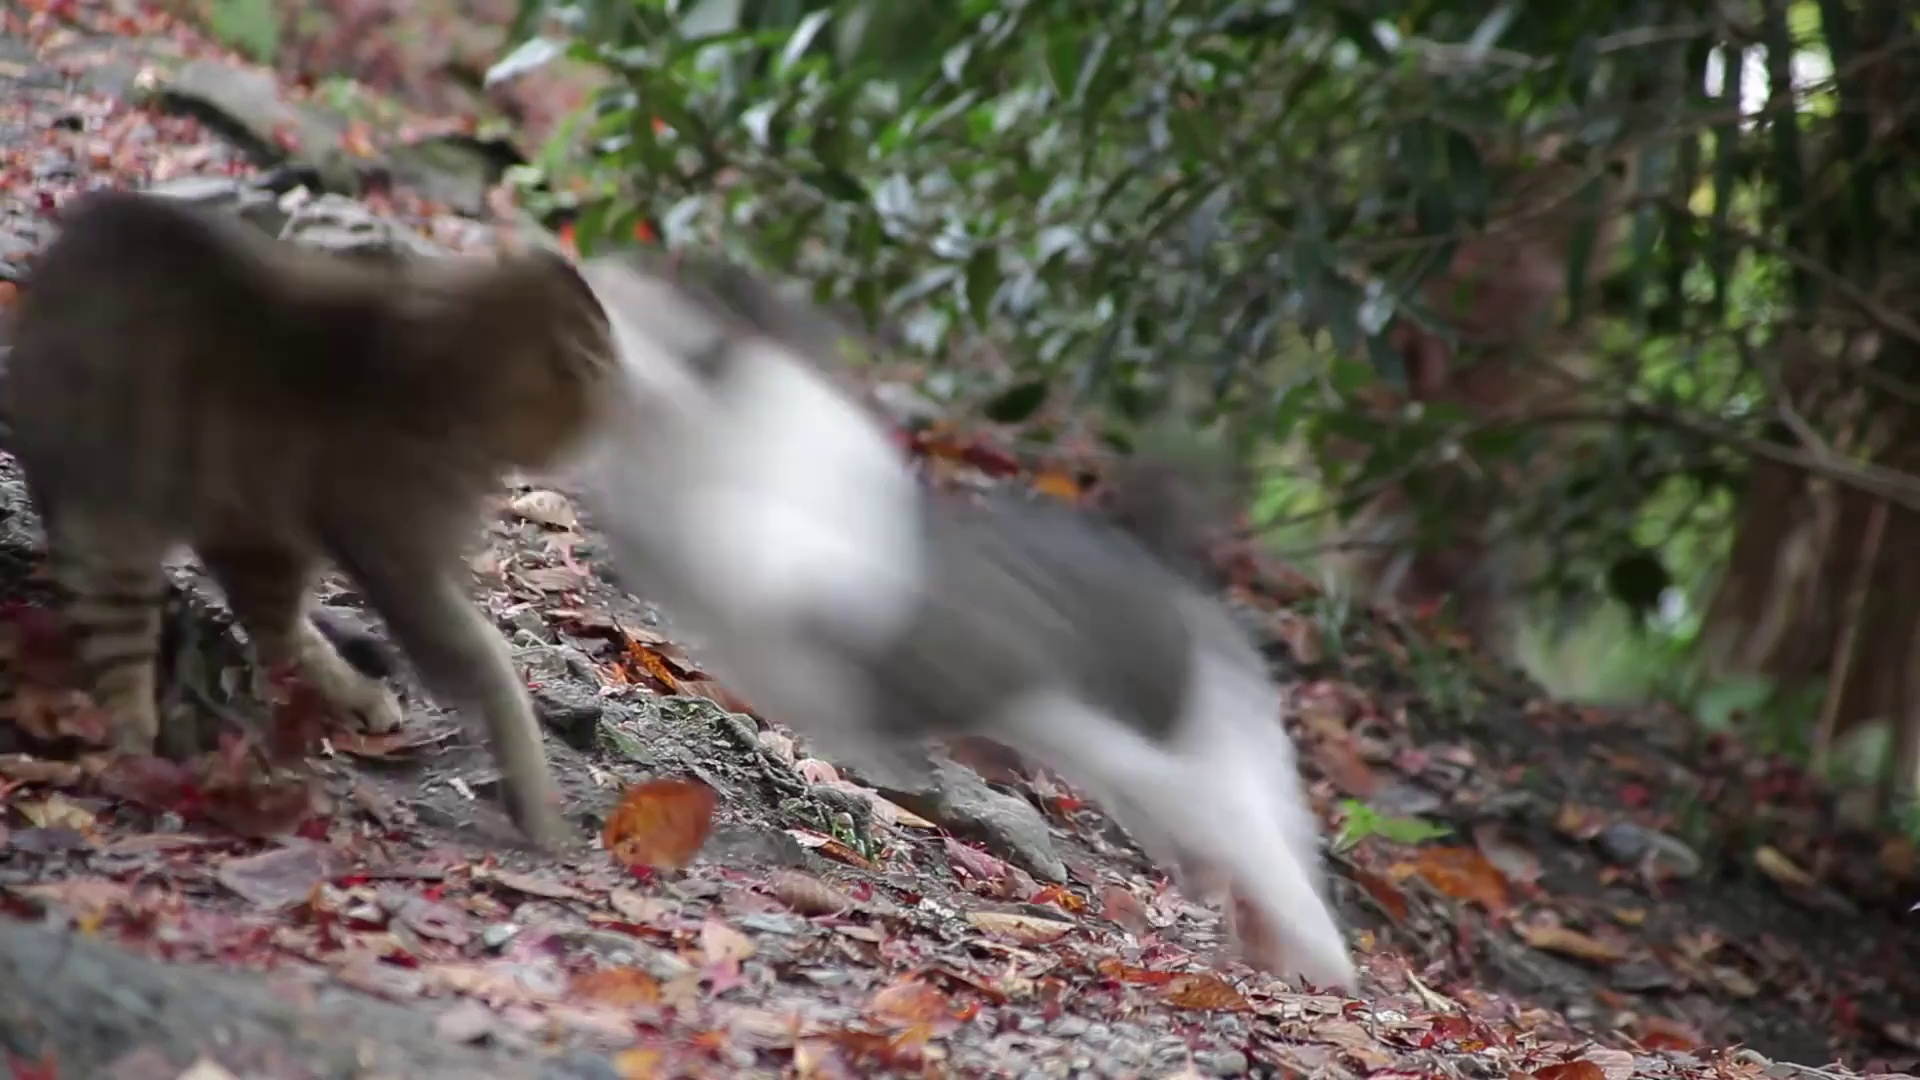black-white: (560, 252, 1360, 985)
pure black: (3, 182, 615, 852)
